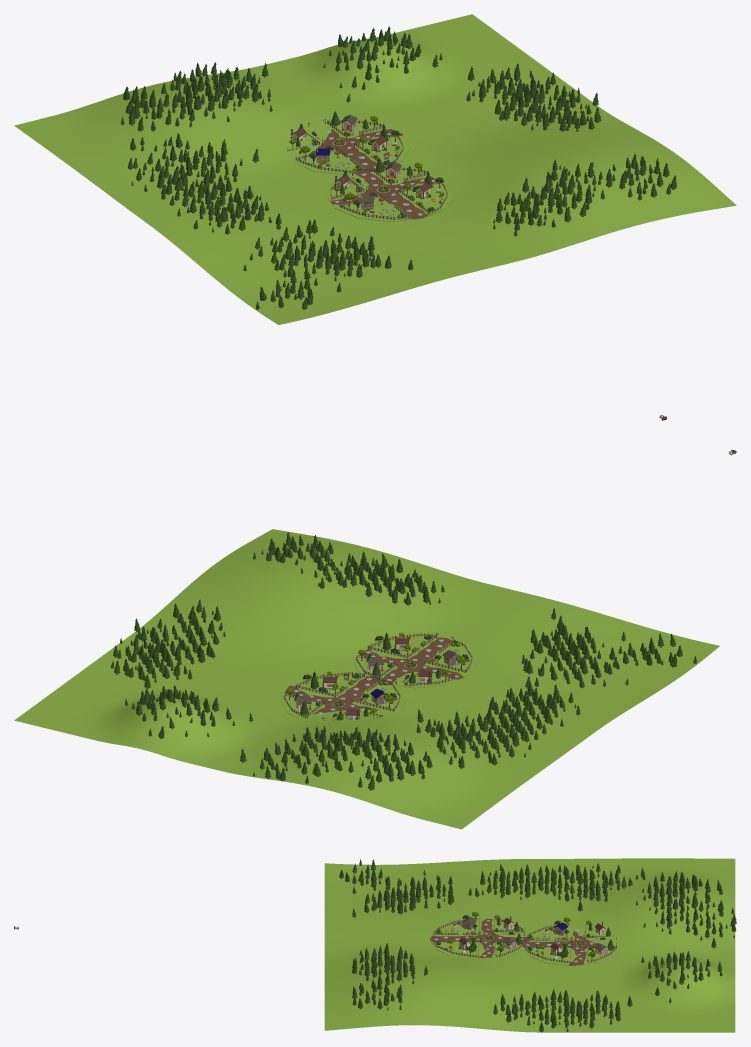
The picture shows the model from 3 angles, top to bottom: view 1: azimuth 30°, elevation 25°; view 2: azimuth 150°, elevation 25°; view 3: azimuth 270°, elevation 25°; orthographic projection. The views are drawn at different scales.
Visible parts, largest first — view 1: Ground.001; view 2: Ground.001; view 3: Ground.001.
Boxes of the visible parts, bbox=[...] form: Ground.001: bbox=[14, 14, 736, 420]; Ground.001: bbox=[14, 449, 736, 829]; Ground.001: bbox=[14, 858, 736, 1032].
Size of the model in its own units: 201 by 19.18 by 352.
